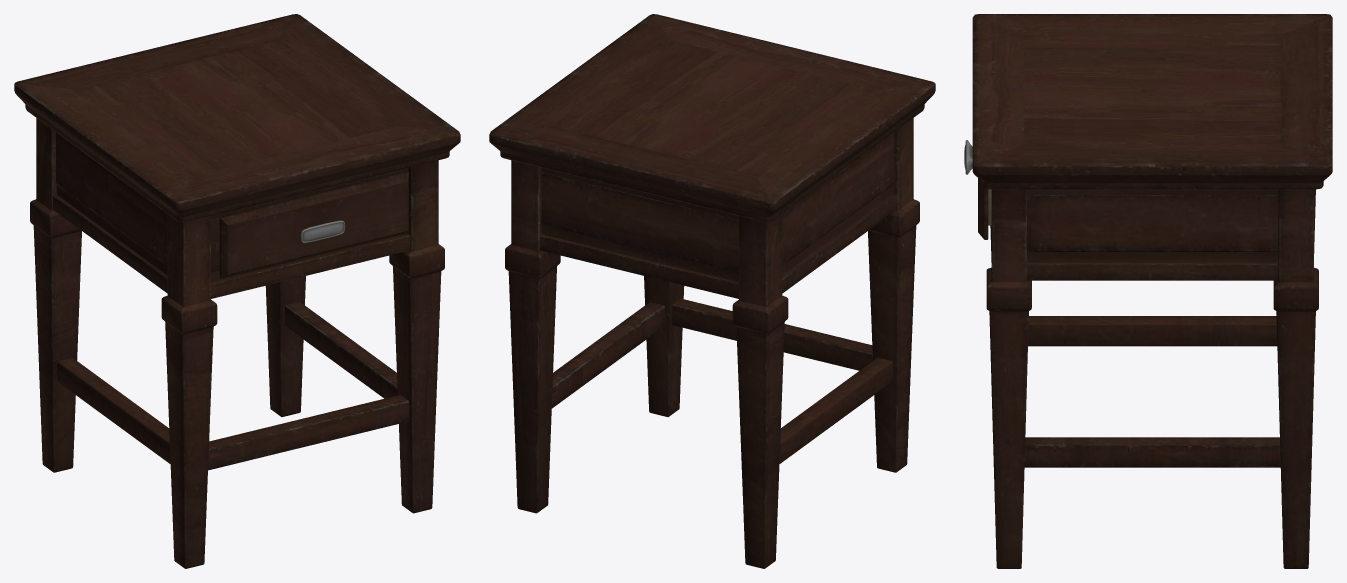
Rendered from table.glb.
3 views of the same model, side by side, from view 1: azimuth 30°, elevation 25°; view 2: azimuth 150°, elevation 25°; view 3: azimuth 270°, elevation 25° (orthographic). The views are drawn at different scales.
Visible parts, largest first — view 1: Table; view 2: Table; view 3: Table.
Part boxes in pixels (<box>): Table: <box>14,14,460,568</box>; Table: <box>489,14,935,568</box>; Table: <box>964,14,1332,568</box>.
Bounding box in the file's own units: 4.68 × 5.95 × 4.79.
Materials: 1 (1 with a texture image).
